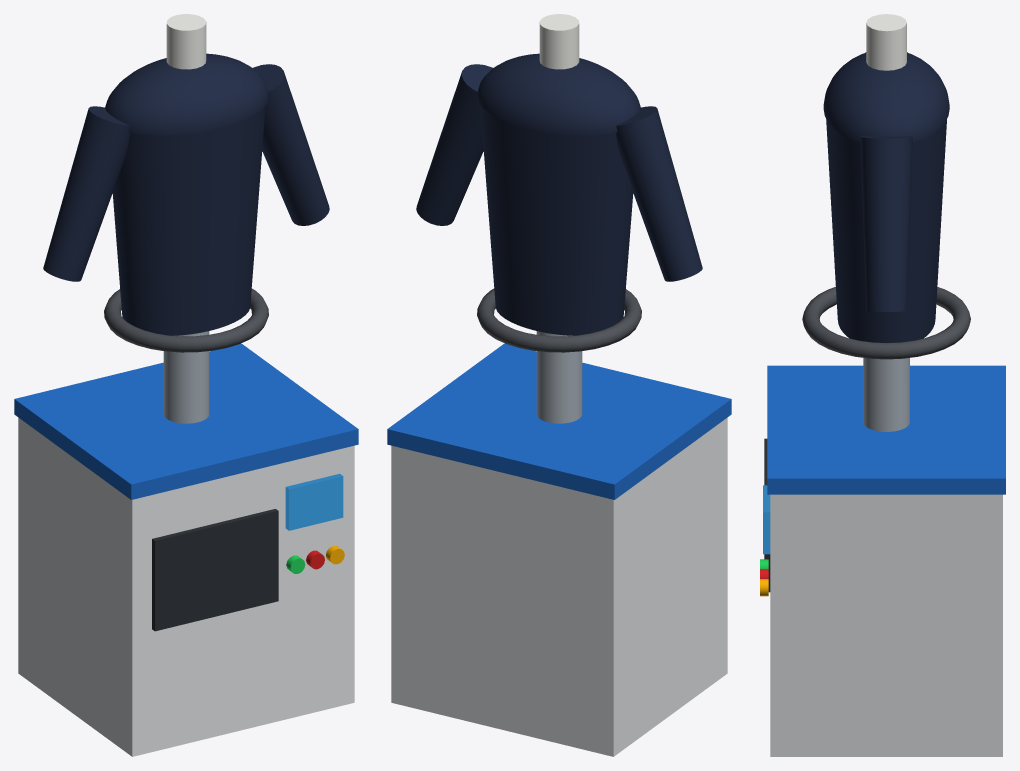
The model's file is form-finisher.glb.
3 renders of one model, left to right at view 1: azimuth 30°, elevation 25°; view 2: azimuth 150°, elevation 25°; view 3: azimuth 270°, elevation 25°, orthographic.
Parts seen in each view (by area): view 1: Asset; view 2: Asset; view 3: Asset.
Boxes of the visible parts, x1,y1,x2,y2 form: Asset: [14, 14, 358, 756]; Asset: [387, 14, 731, 756]; Asset: [760, 14, 1005, 756].
Bounding box in the file's own units: 1.14 × 2.58 × 0.845.
